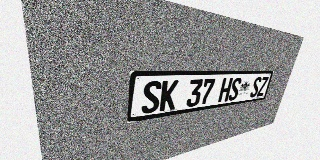3: (186, 79, 203, 107)
7: (199, 79, 215, 105)
H: (218, 78, 233, 103)
K: (159, 80, 179, 112)
S: (141, 81, 162, 114), (227, 77, 242, 101), (249, 77, 262, 98)
Z: (256, 76, 269, 97)
